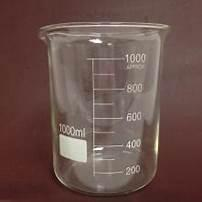Beaker: (37, 25, 166, 192)
